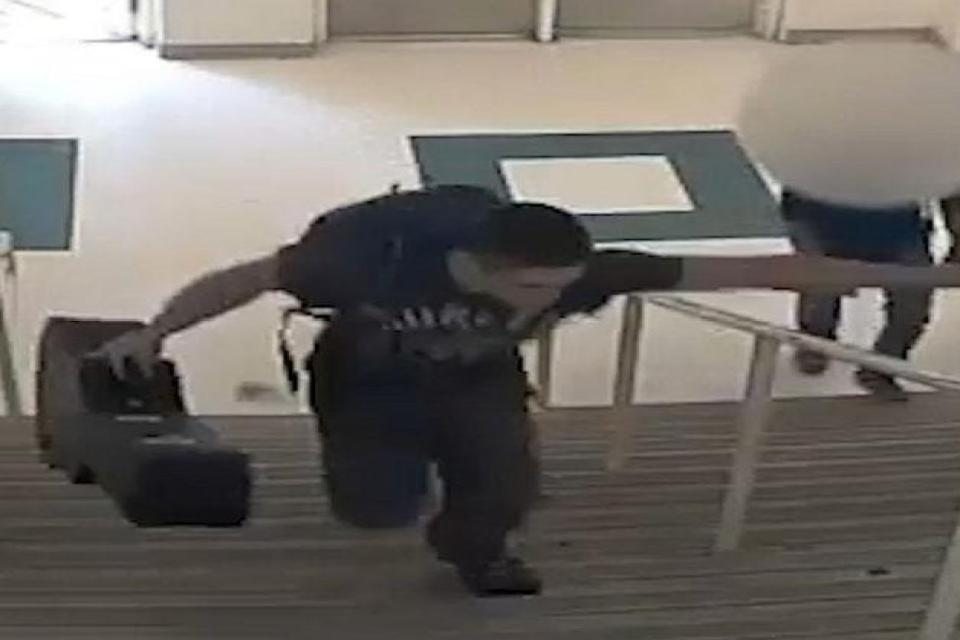non-violence: (78, 181, 960, 601), (777, 190, 960, 404)
